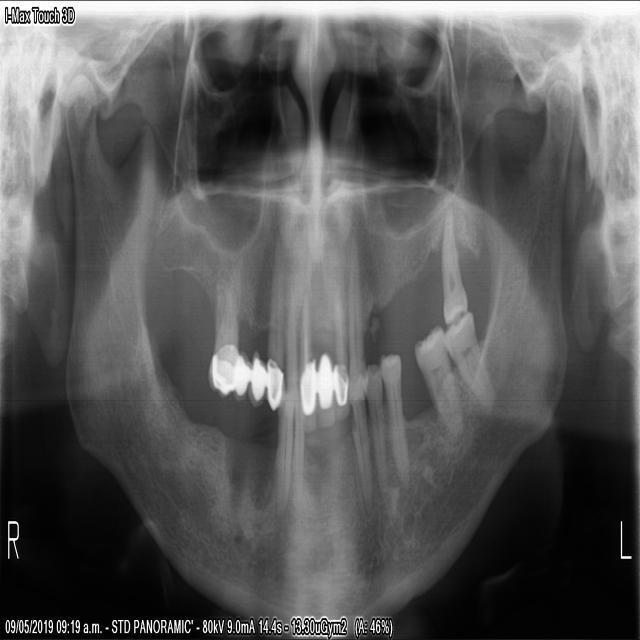LMD: (413, 320, 463, 440), (444, 310, 497, 411)
LMU: (438, 204, 467, 327)
LPMD: (377, 349, 408, 490), (360, 361, 385, 496)
